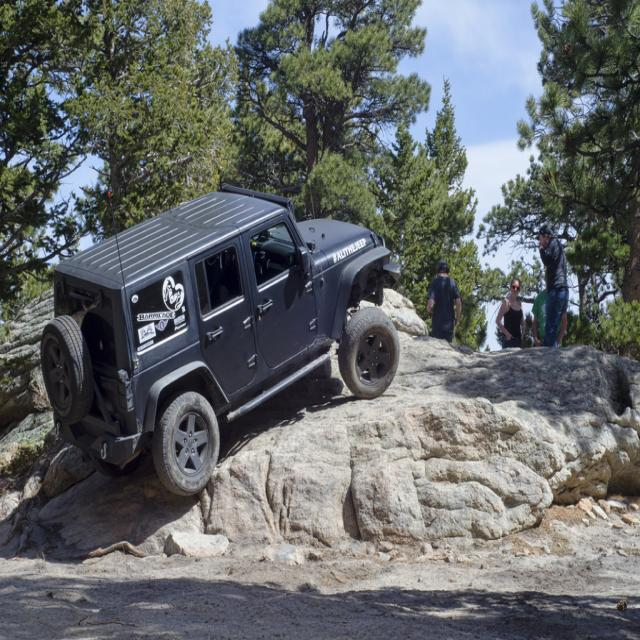car: (56, 180, 400, 516)
